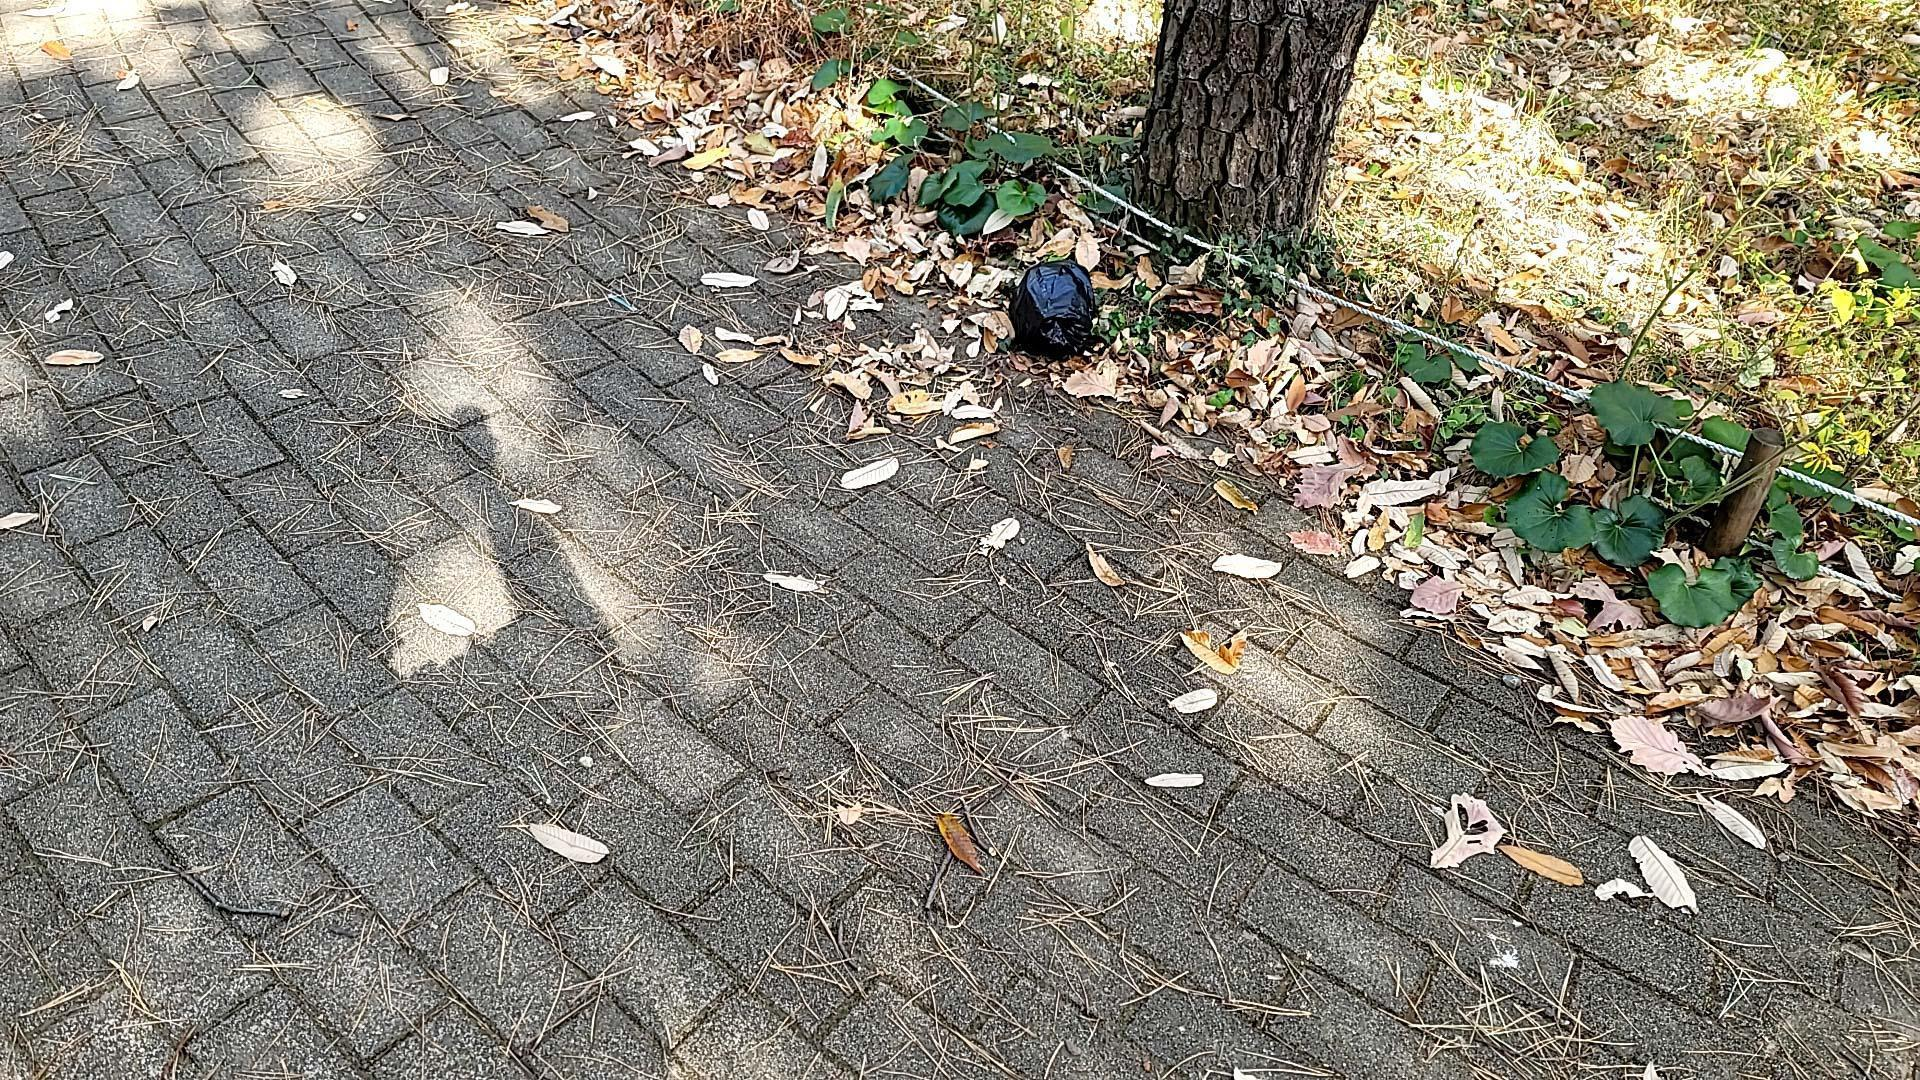black_bag: (1001, 262, 1101, 369)
